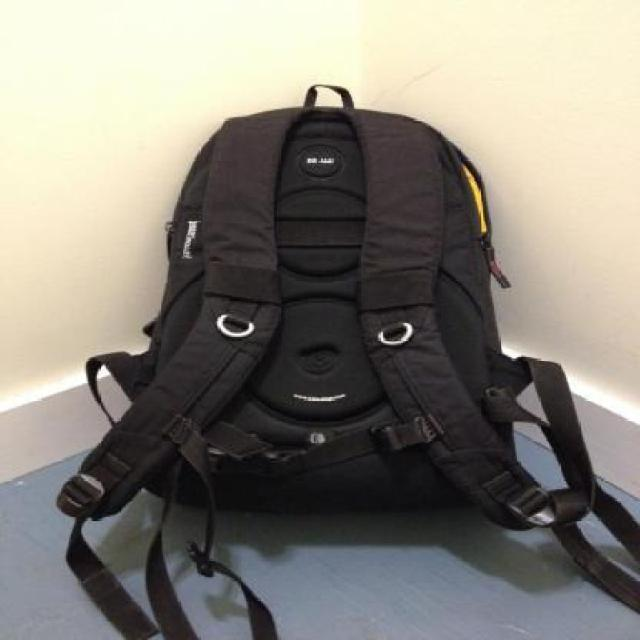backpack: (51, 83, 603, 535)
